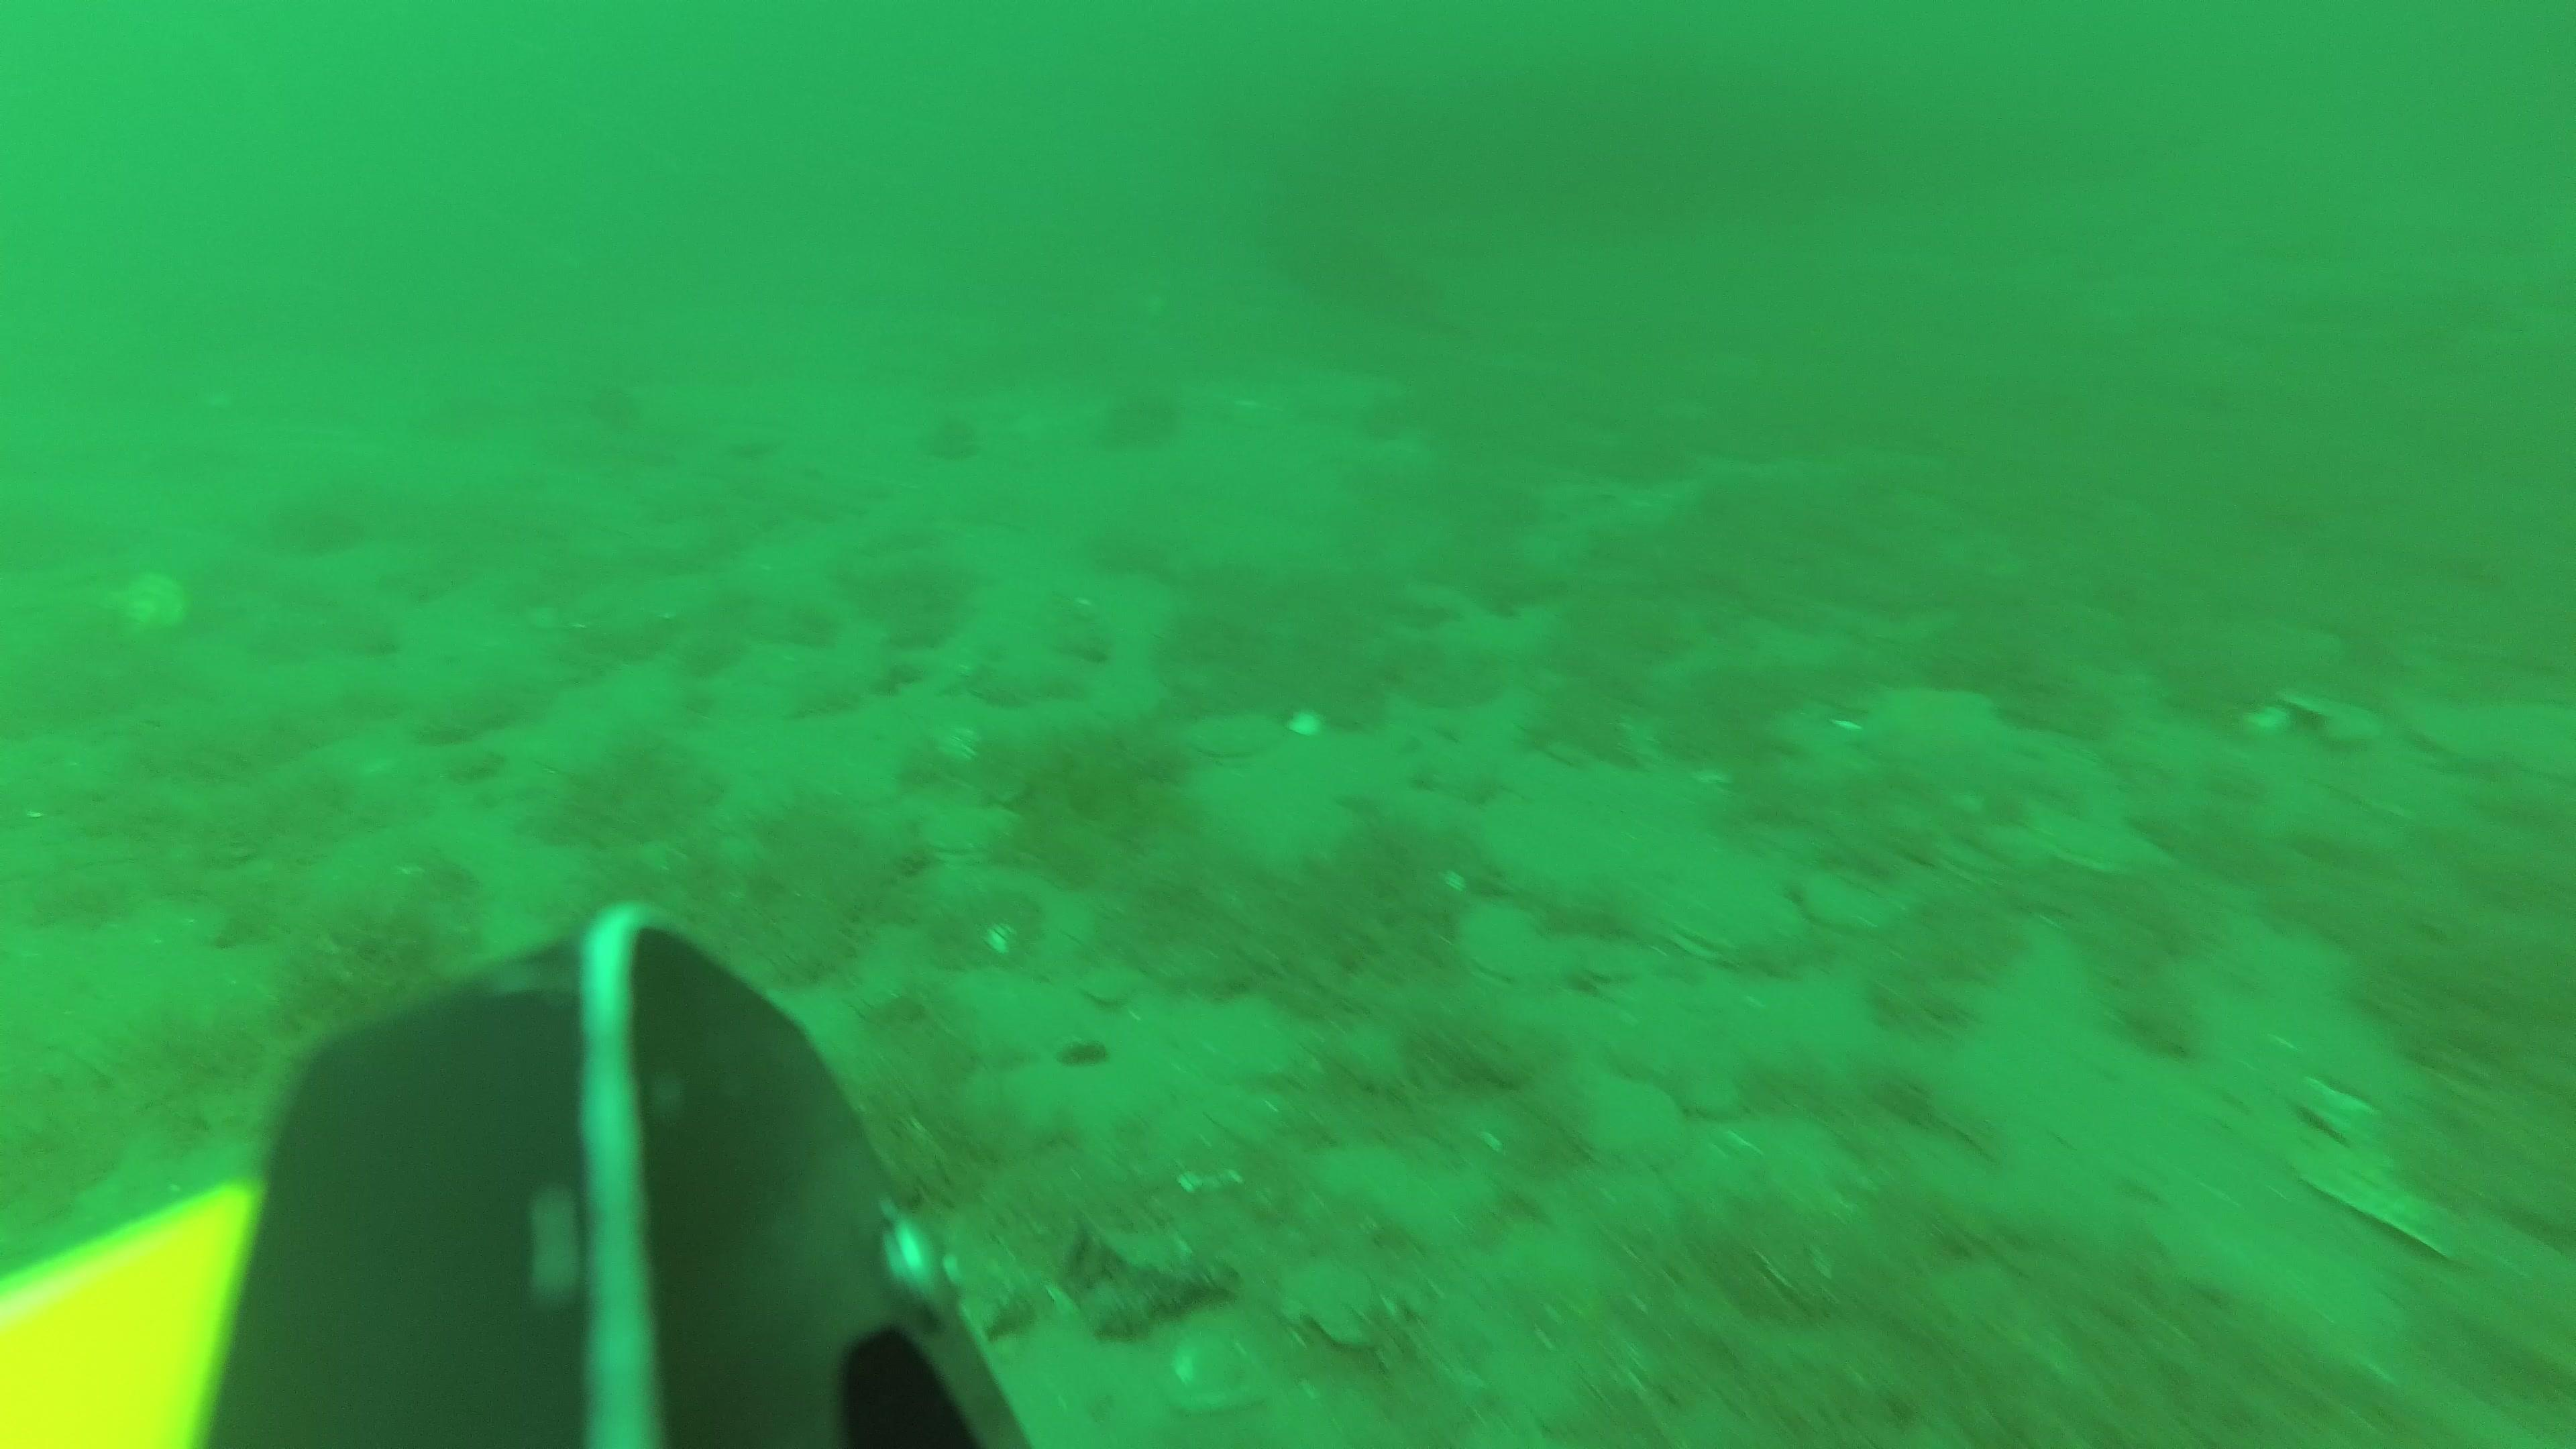scallop: (1575, 1074, 1693, 1175), (1658, 885, 1808, 962), (1458, 906, 1566, 989), (2058, 824, 2171, 881), (1930, 830, 2038, 888), (916, 801, 1021, 862), (115, 573, 191, 649), (1813, 876, 1905, 938), (1185, 715, 1281, 768), (1079, 966, 1143, 1010), (1580, 952, 1640, 996)
starfish: (1858, 686, 1996, 768)
